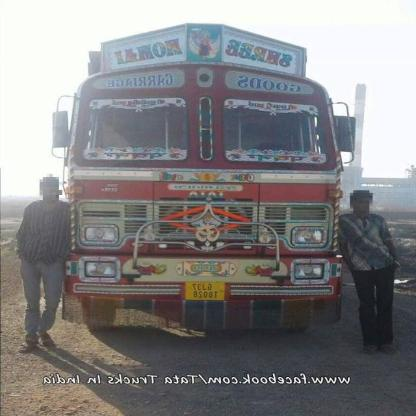truck: (55, 34, 359, 342)
